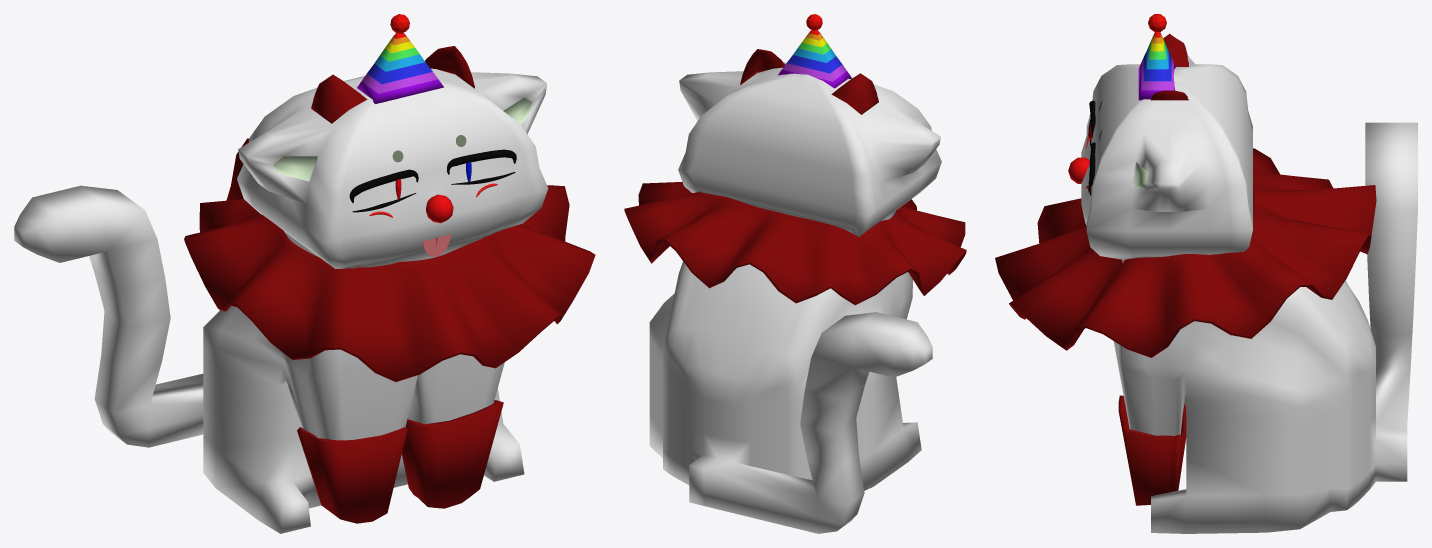
The model's file is ClownCat.fbx.
3 renders of one model, left to right at view 1: azimuth 30°, elevation 25°; view 2: azimuth 150°, elevation 25°; view 3: azimuth 270°, elevation 25°, orthographic. The views are drawn at different scales.
Visible parts, largest first — view 1: Cube, Cylinder, Cube.005, Cube.004, Cube.003, Cube.001, Cube.002; view 2: Cube, Cylinder, Cube.003, Cube.001, Cube.002; view 3: Cube, Cylinder, Cube.005, Cube.003, Cube.001.
Part boxes in pixels (box(x1,y1,x2,y2)): Cube: box(14, 68, 548, 533); Cylinder: box(184, 138, 595, 381); Cube.005: box(402, 400, 503, 508); Cube.004: box(297, 427, 407, 523); Cube.003: box(357, 14, 443, 103); Cube.001: box(311, 74, 367, 123); Cube.002: box(425, 46, 474, 88); Cube: box(649, 62, 941, 533); Cylinder: box(624, 182, 966, 305); Cube.003: box(778, 14, 851, 88); Cube.001: box(831, 73, 878, 114); Cube.002: box(740, 49, 785, 85); Cube: box(1081, 56, 1417, 533); Cylinder: box(995, 148, 1376, 357); Cube.005: box(1118, 395, 1186, 505); Cube.003: box(1138, 14, 1175, 100); Cube.001: box(1163, 33, 1188, 66).
Bounding box in the file's own units: 395 × 421 × 344.
